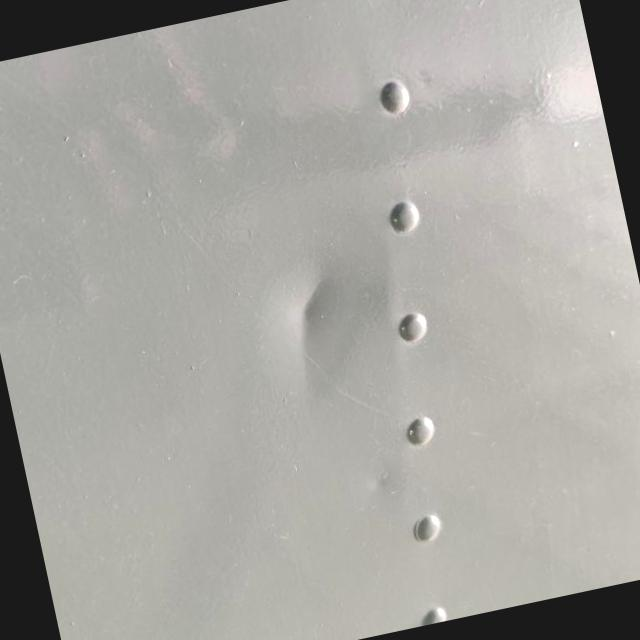dent: (243, 239, 377, 402)
